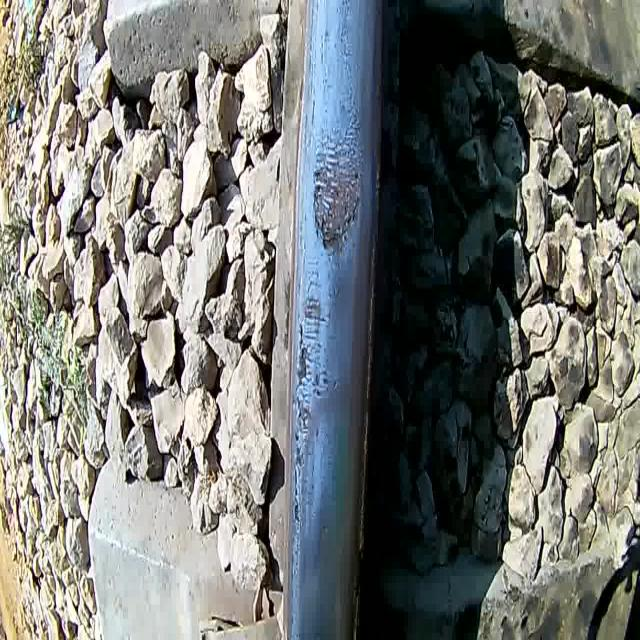Squats: (288, 272, 345, 544), (310, 108, 365, 265)
